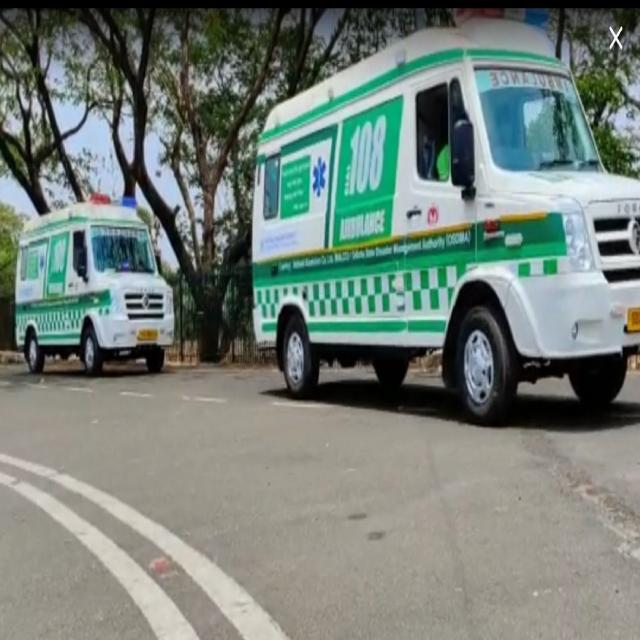emergency: (252, 20, 640, 418), (16, 202, 172, 374)
